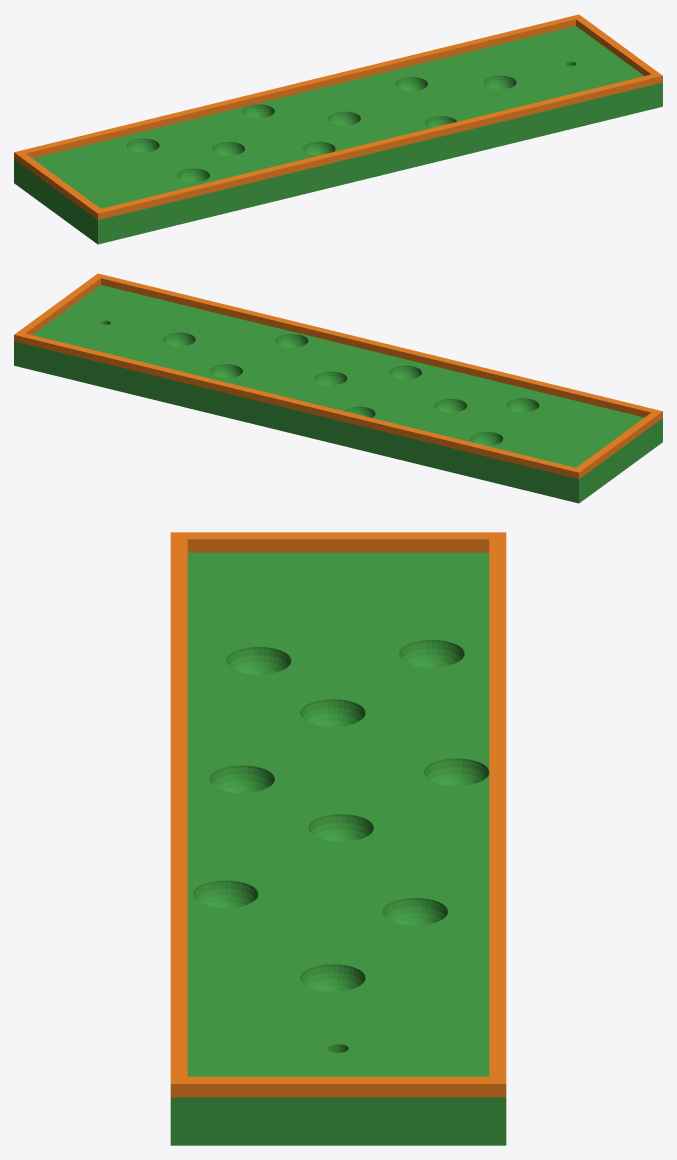
The model's file is tinker.obj.
The picture shows the model from 3 angles, top to bottom: view 1: azimuth 30°, elevation 25°; view 2: azimuth 150°, elevation 25°; view 3: azimuth 270°, elevation 25°; orthographic projection. The views are drawn at different scales.
Visible parts, largest first — view 1: group_0_4170049, group_0_16089887; view 2: group_0_4170049, group_0_16089887; view 3: group_0_4170049, group_0_16089887.
Boxes of the visible parts, <box> form: group_0_4170049: <box>14,26,662,244</box>; group_0_16089887: <box>14,14,662,220</box>; group_0_4170049: <box>14,285,662,503</box>; group_0_16089887: <box>14,273,662,479</box>; group_0_4170049: <box>170,552,506,1145</box>; group_0_16089887: <box>170,532,506,1097</box>.
Size of the model in its own units: 158 by 8.26 by 40.67.
